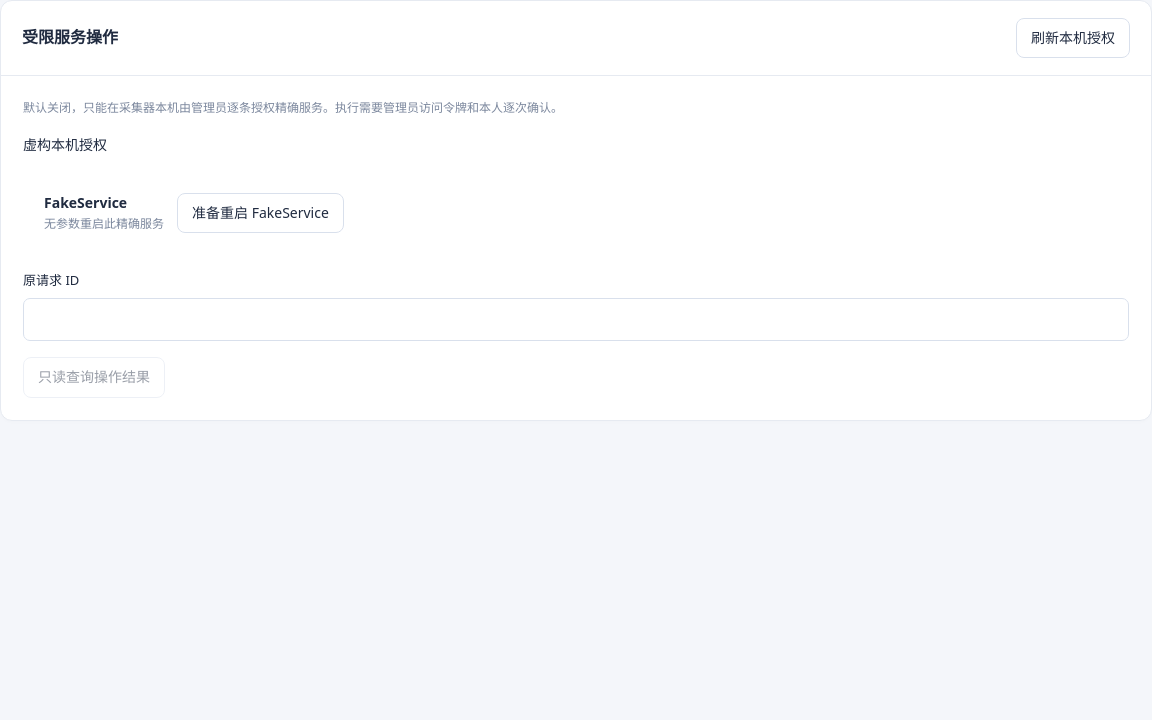
Scenario: retains the original request ID on an uncertain response and only queries when requested
The width and height of the screenshot is (1152, 720).
Step 1. Click the button "准备重启 FakeService" → click(260, 213), box [177,193,344,233]
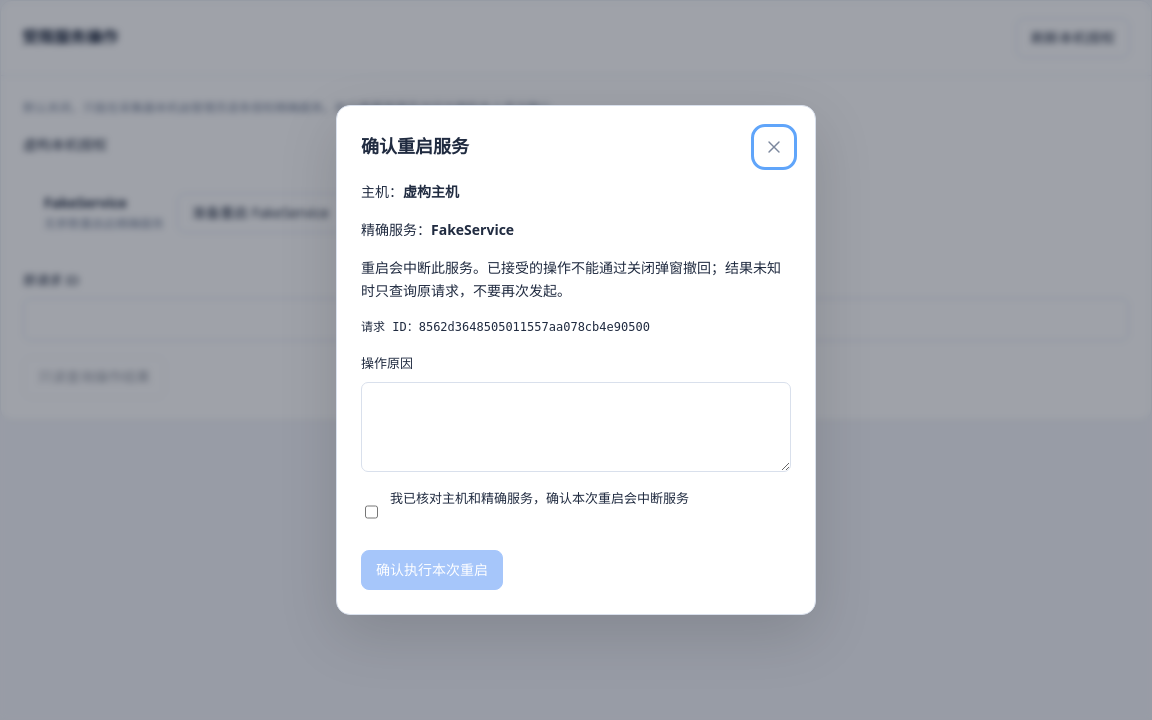
Step 2. Type "虚构确认" into the text box named "服务重启原因" → (576, 427), box [361,382,791,472]
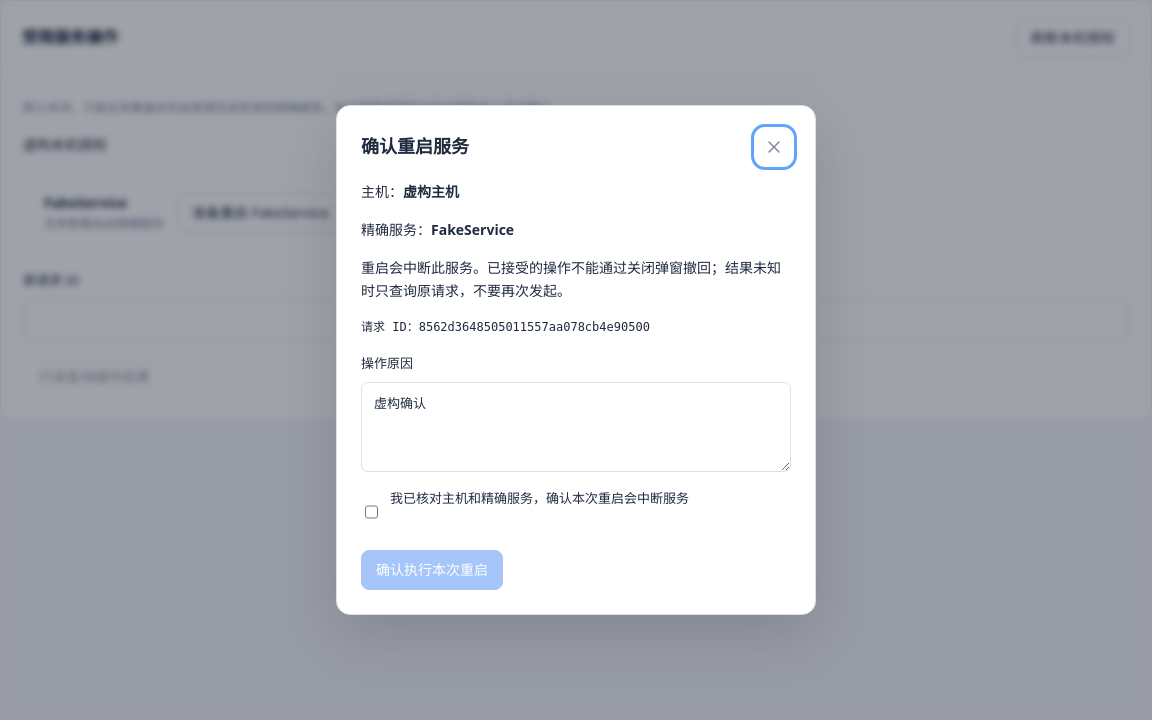
Step 3. Click the checkbox → click(372, 512), box [365,493,378,531]
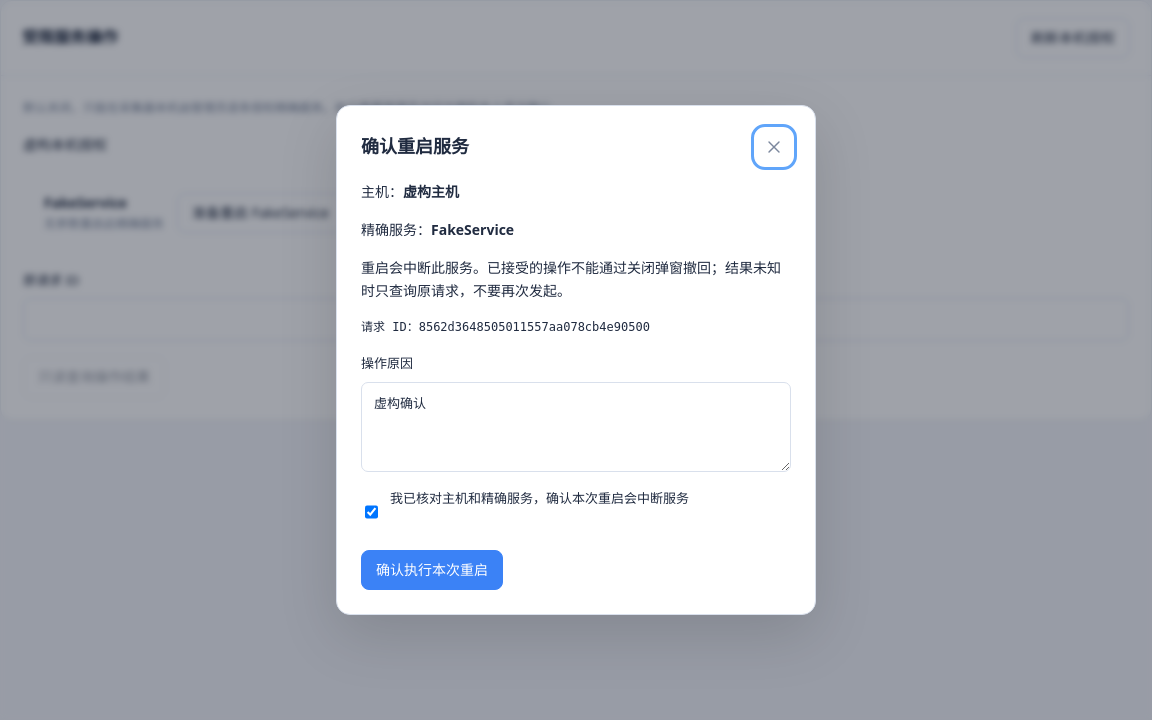
Step 4. Click the button "确认执行本次重启" → click(432, 570), box [361,550,503,590]
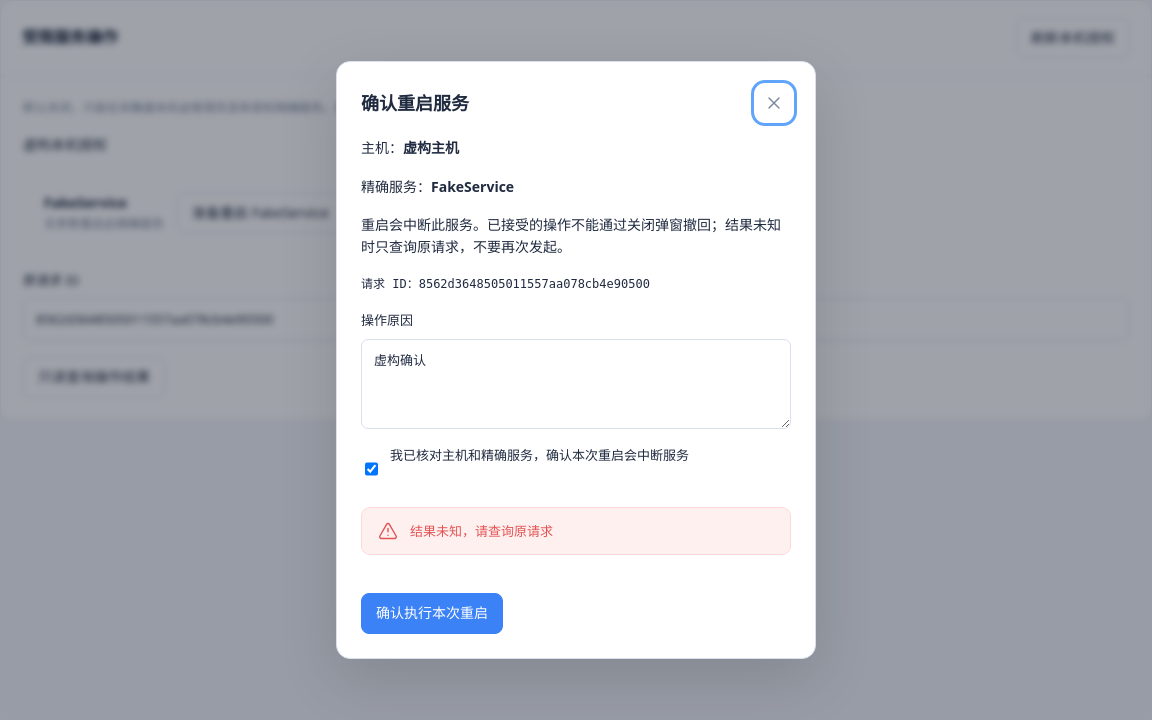
Now the text "结果未知，请查询原请求" is shown, box [410,521,553,542]
Step 5. Click the button named "关闭" → click(774, 103), box [757,86,791,120]
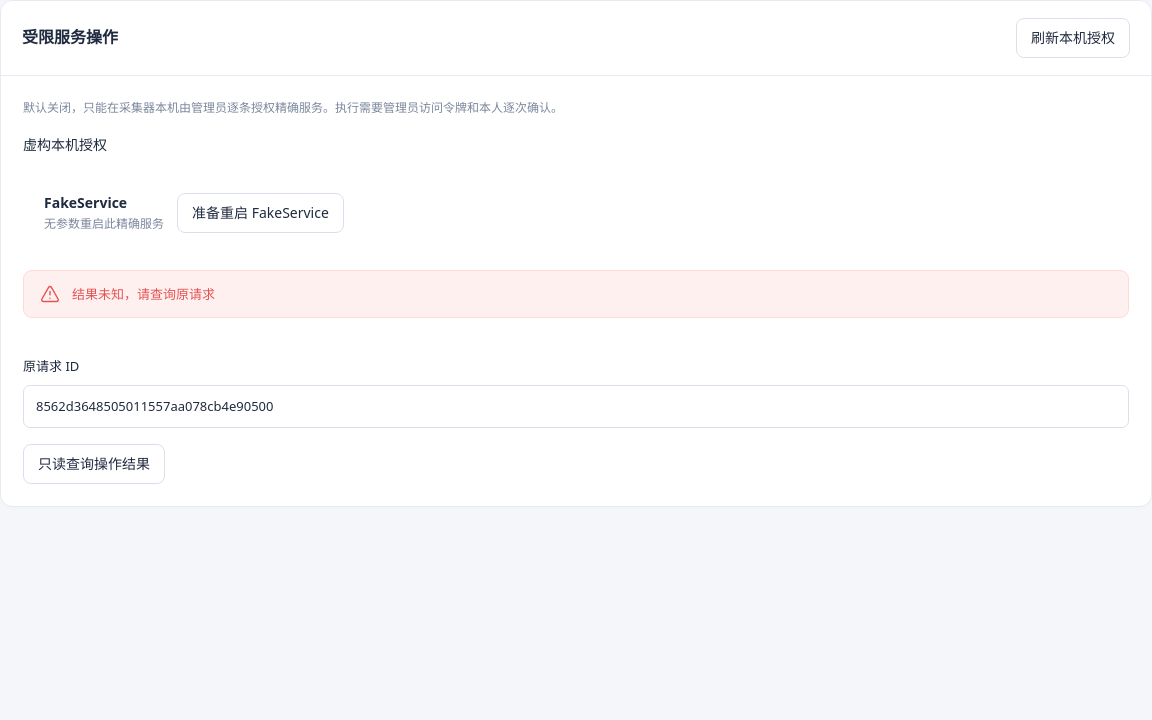
Step 6. Click the button "只读查询操作结果" → click(94, 464), box [23,444,165,484]
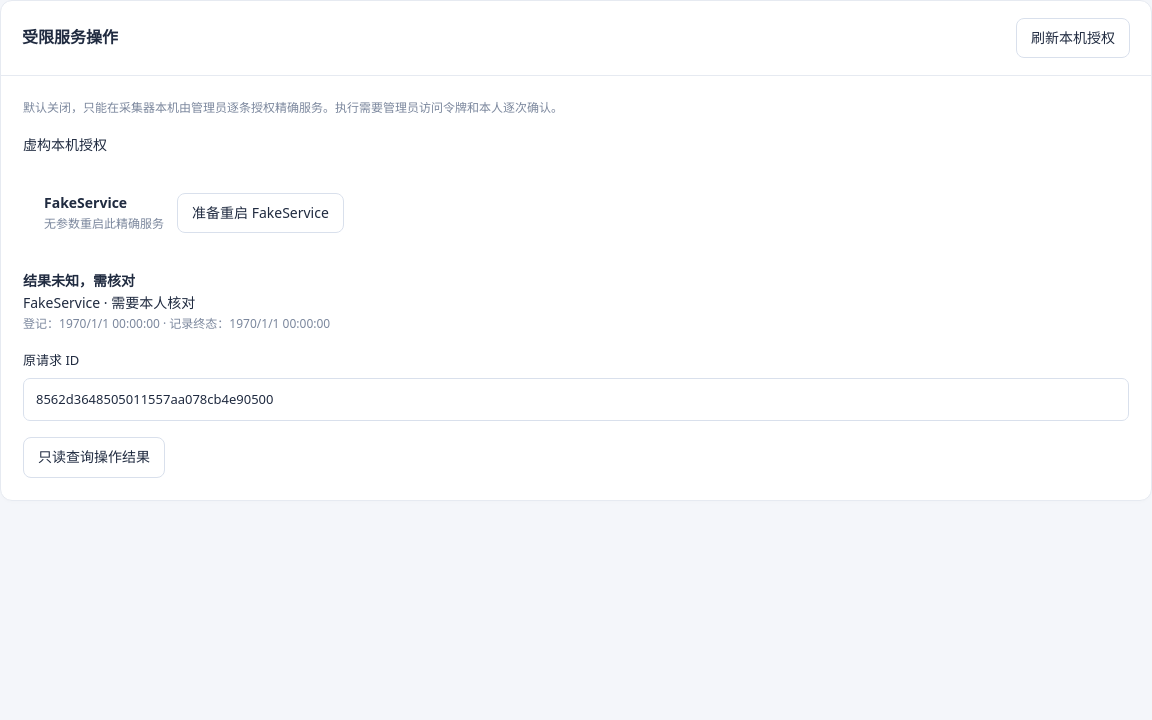
Now the text "结果未知，需核对" is shown, box [23,270,135,290]
